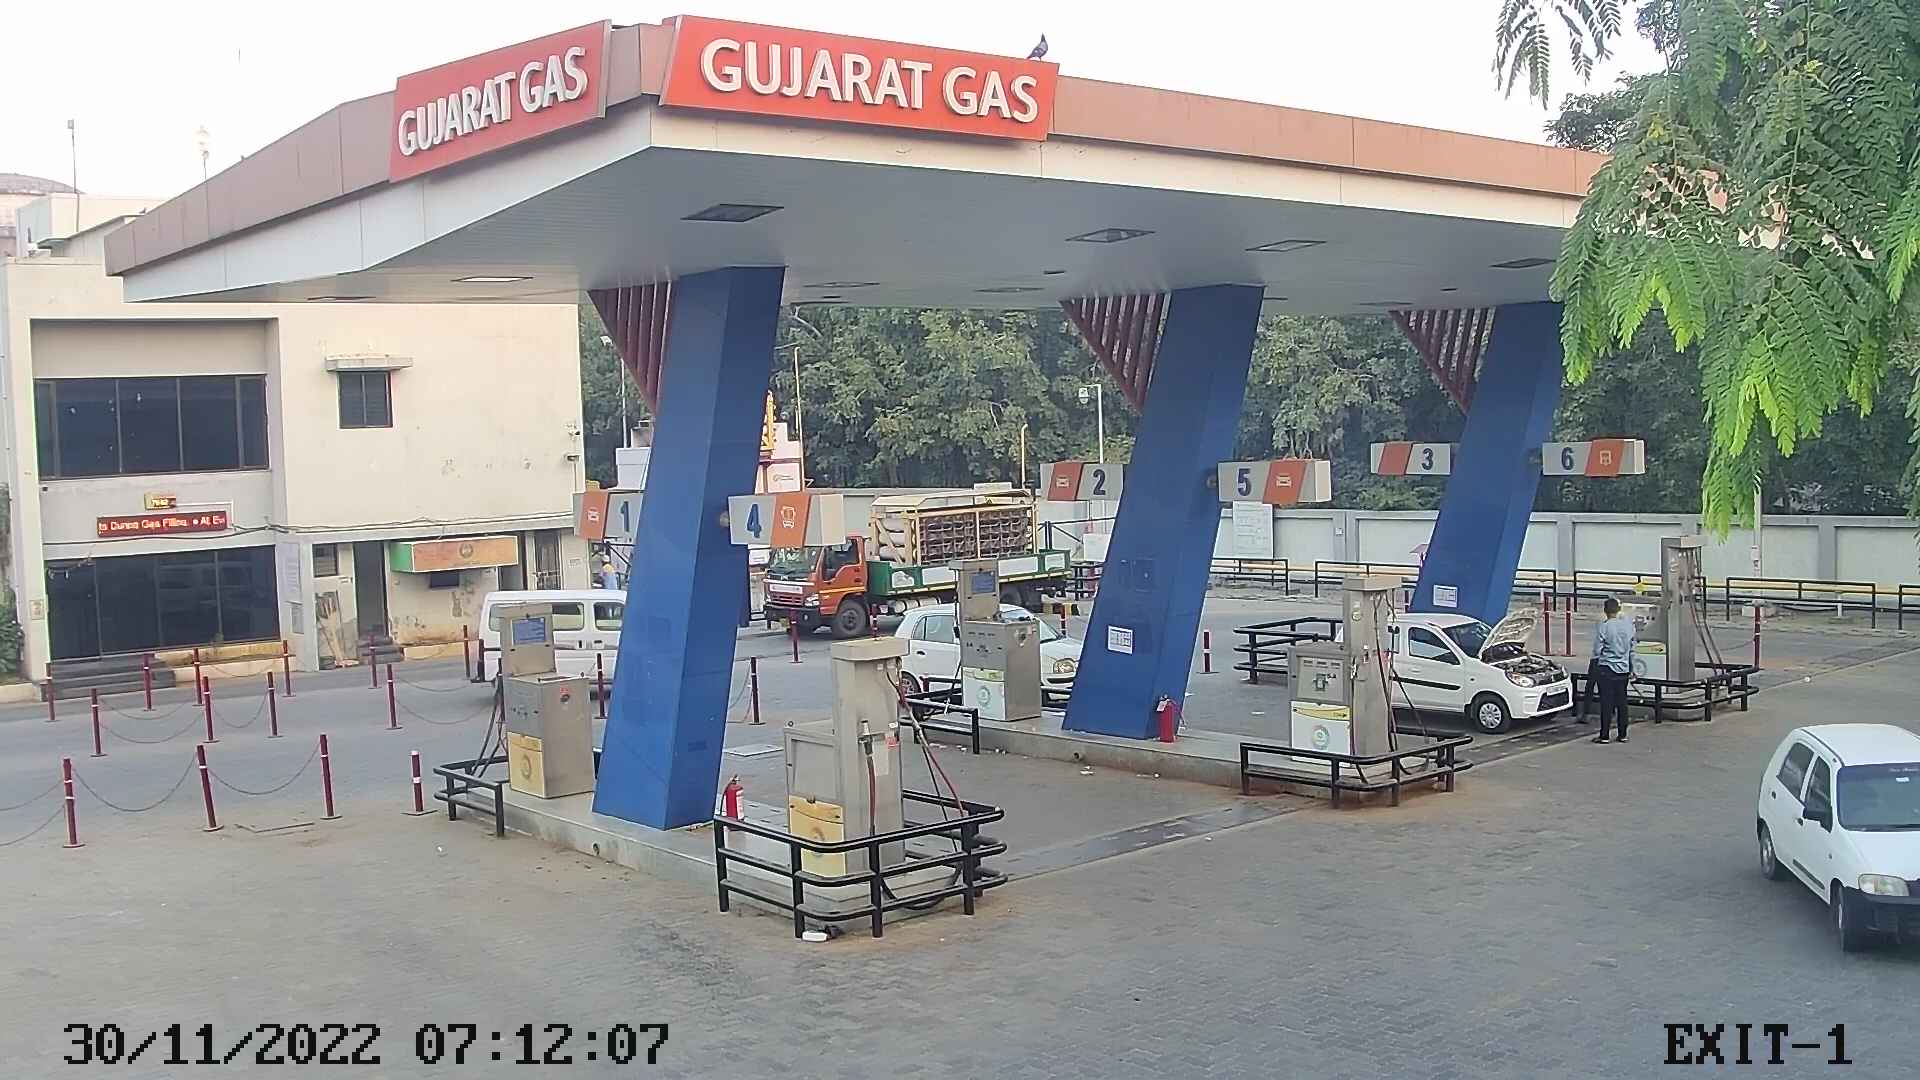Car: (1735, 711, 1920, 963), (1382, 600, 1582, 738), (463, 579, 633, 699), (881, 593, 969, 713)
HMV: (752, 476, 1088, 646)
